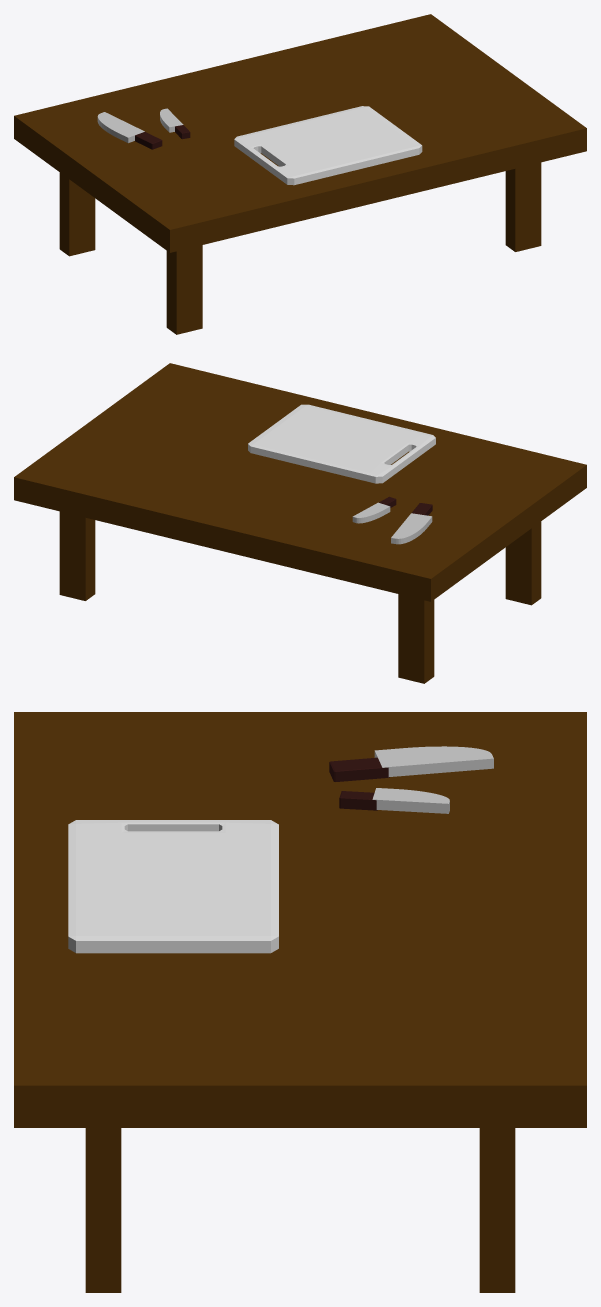
File: chopping table 1.fbx
The picture shows the model from 3 angles, top to bottom: view 1: azimuth 30°, elevation 25°; view 2: azimuth 150°, elevation 25°; view 3: azimuth 270°, elevation 25°; orthographic projection. The views are drawn at different scales.
Parts seen in each view (by area): view 1: Cube.004, Cube, Cube.001, Cube.003; view 2: Cube.004, Cube, Cube.001, Cube.003; view 3: Cube.004, Cube, Cube.001, Cube.003.
Boxes of the visible parts, x1=… form: Cube.004: x1=14, y1=14, x2=586, y2=334; Cube: x1=234, y1=106, x2=422, y2=185; Cube.001: x1=97, y1=112, x2=162, y2=149; Cube.003: x1=160, y1=108, x2=190, y2=139; Cube.004: x1=14, y1=363, x2=586, y2=683; Cube: x1=248, y1=404, x2=435, y2=483; Cube.001: x1=391, y1=503, x2=432, y2=544; Cube.003: x1=352, y1=496, x2=396, y2=523; Cube.004: x1=14, y1=712, x2=586, y2=1292; Cube: x1=68, y1=820, x2=278, y2=953; Cube.001: x1=329, y1=746, x2=493, y2=781; Cube.003: x1=339, y1=788, x2=449, y2=813.
Size of the model in its own units: 192 by 58.45 by 125.
